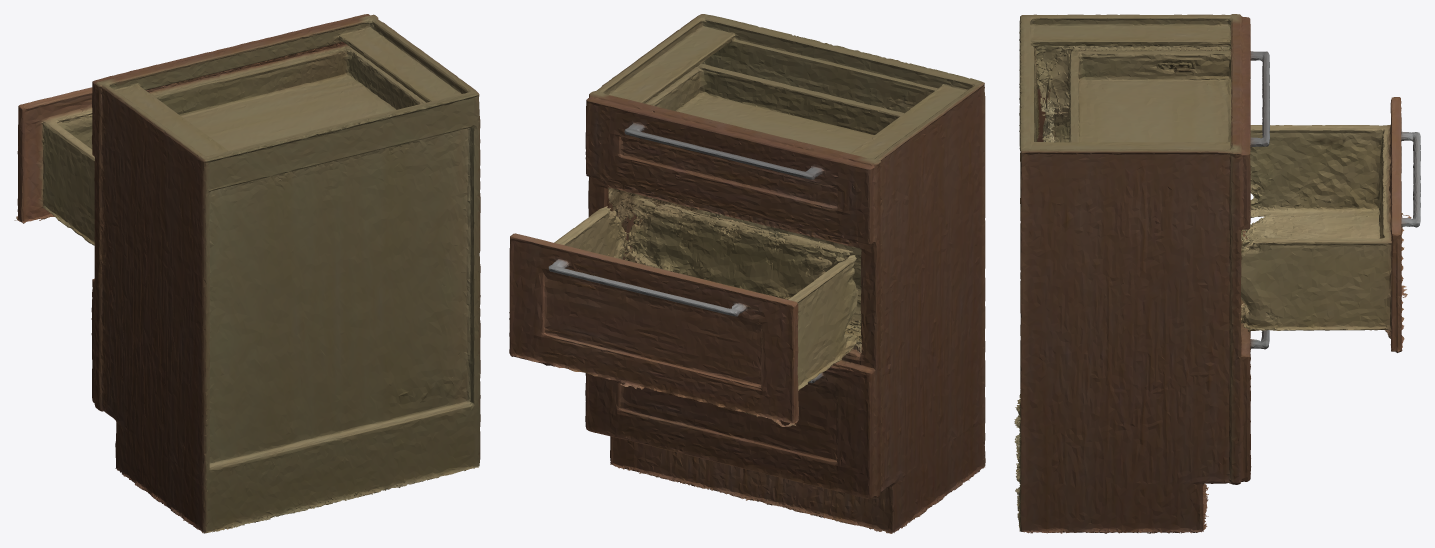
Rendered from storage_45135.glb.
The picture shows the model from 3 angles, left to right: view 1: azimuth 30°, elevation 25°; view 2: azimuth 150°, elevation 25°; view 3: azimuth 270°, elevation 25°; orthographic projection. The views are drawn at different scales.
Parts seen in each view (by area): view 1: storage_45135_start_0, storage_45135_start_1; view 2: storage_45135_start_0, storage_45135_start_1; view 3: storage_45135_start_0, storage_45135_start_1.
Boxes of the visible parts, x1=… form: storage_45135_start_0: x1=91, y1=14, x2=480, y2=533; storage_45135_start_1: x1=14, y1=87, x2=94, y2=245; storage_45135_start_0: x1=585, y1=14, x2=985, y2=533; storage_45135_start_1: x1=509, y1=198, x2=858, y2=426; storage_45135_start_0: x1=1014, y1=14, x2=1269, y2=533; storage_45135_start_1: x1=1241, y1=97, x2=1420, y2=352.
Size of the model in its own units: 1.21 by 1.54 by 1.48.
